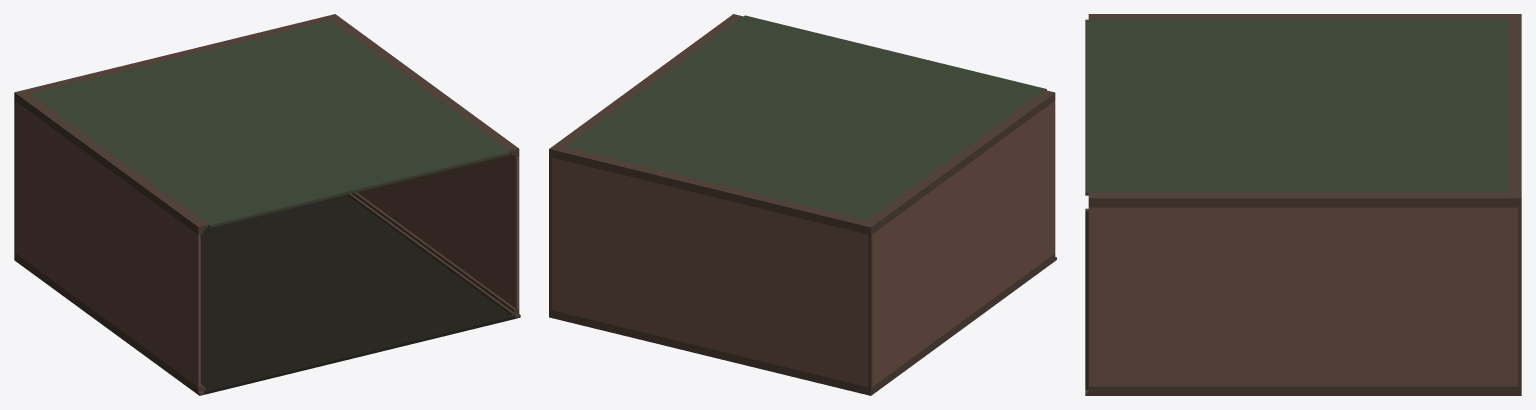
File: LevelRoom.obj
The picture shows the model from 3 angles, left to right: view 1: azimuth 30°, elevation 25°; view 2: azimuth 150°, elevation 25°; view 3: azimuth 270°, elevation 25°; orthographic projection. The views are drawn at different scales.
Size of the model in its own units: 12.8 by 6.4 by 12.8.
Materials: 1 (1 with a texture image).
